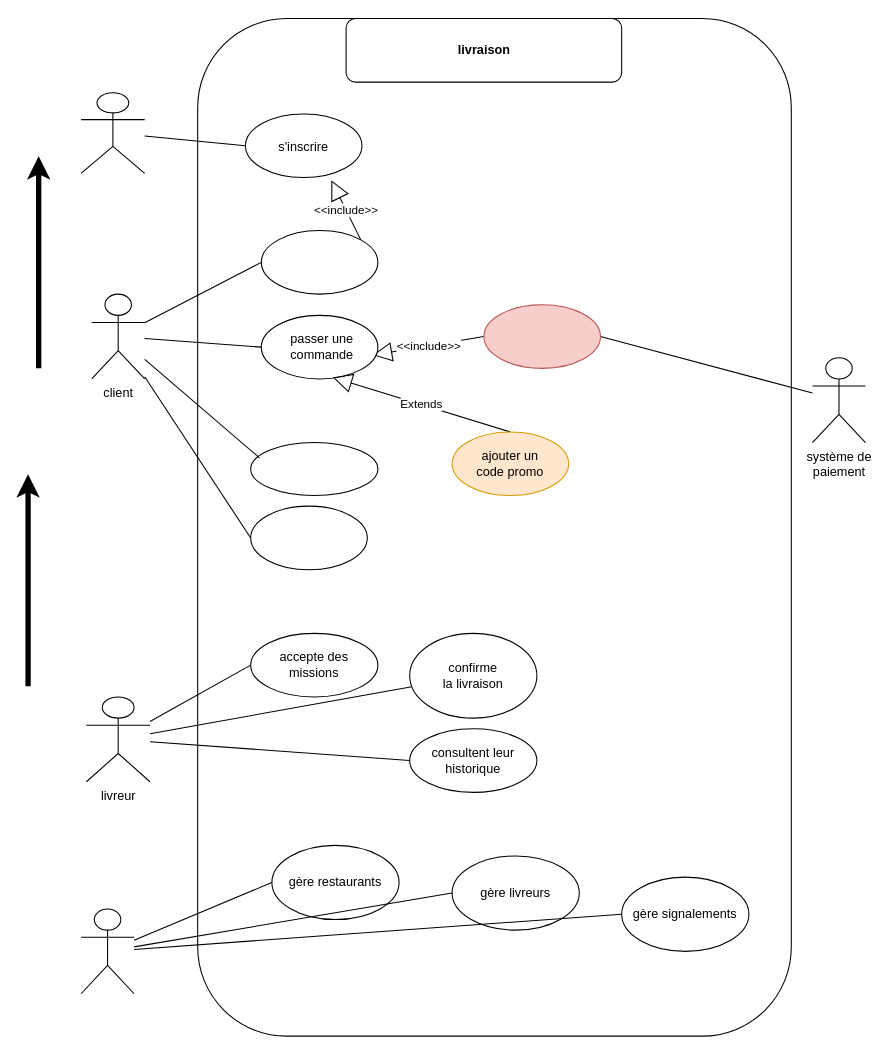
Image size: 889x1055. Some labels were removed from this diagram. The shapes that lost their labels are listed below. From the top down, each one's centre as x and y in pixels, then its label:
the point at 112,132: user
the point at 319,261: parcourir les restaurants
the point at 541,336: paiement en ligne
the point at 314,468: suivre leur livraison
the point at 308,537: noter le livreur
the point at 107,951: Actor
